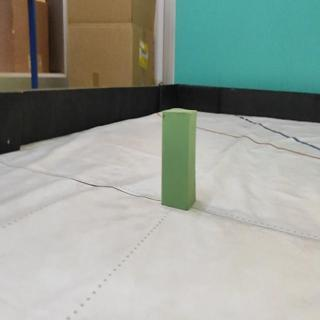greenbox: (161, 107, 199, 212)
